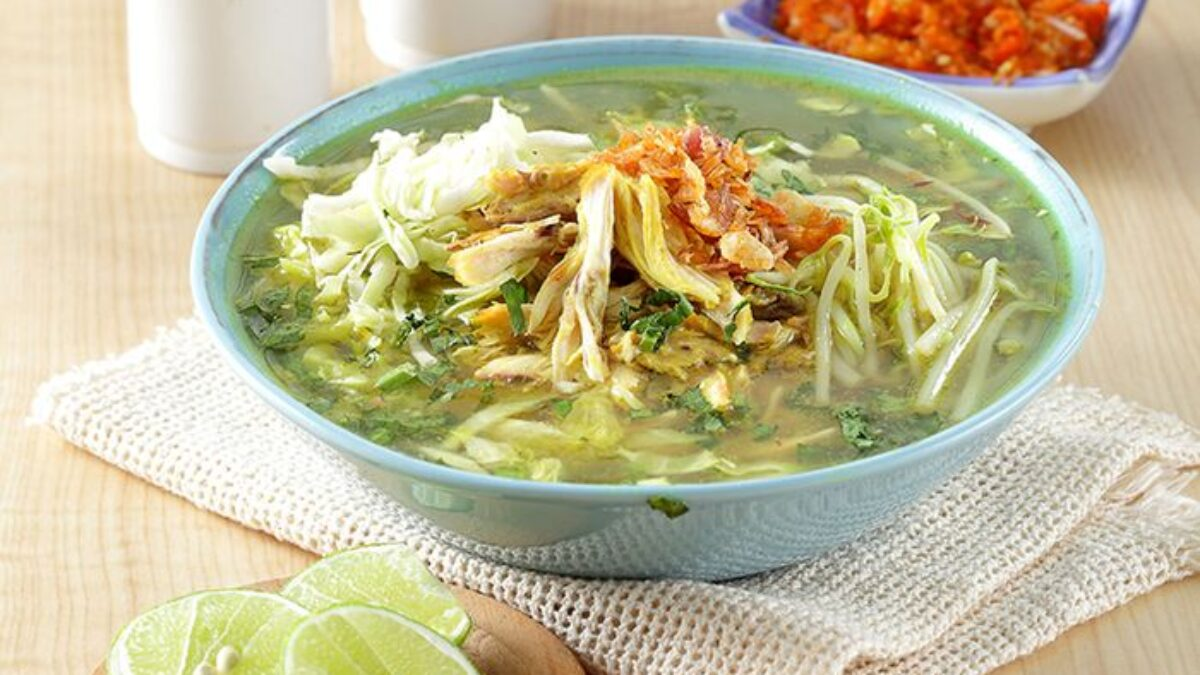soto: (188, 23, 1140, 567)
